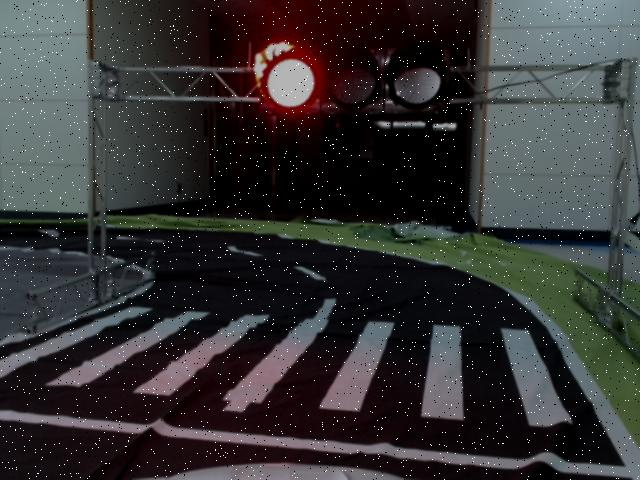crosswalk: (0, 306, 574, 425)
traffic light-red-: (256, 43, 452, 115)
